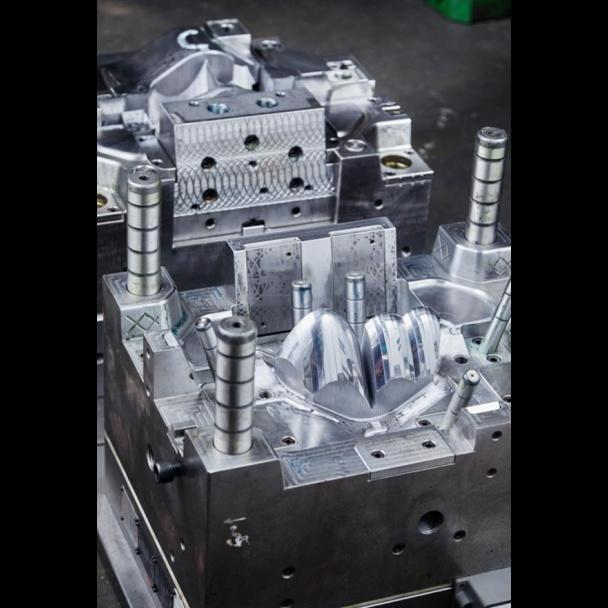hole: (416, 507, 447, 538)
